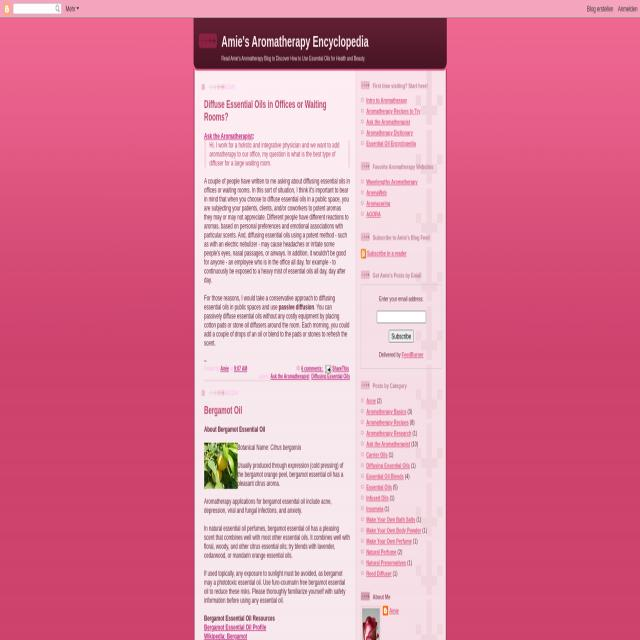button: (204, 443, 238, 489), (362, 604, 381, 640), (389, 330, 414, 343), (199, 33, 217, 48), (2, 2, 12, 16), (360, 248, 366, 258), (55, 4, 60, 14)
field: (13, 3, 61, 16), (376, 311, 426, 323), (65, 3, 80, 14)
